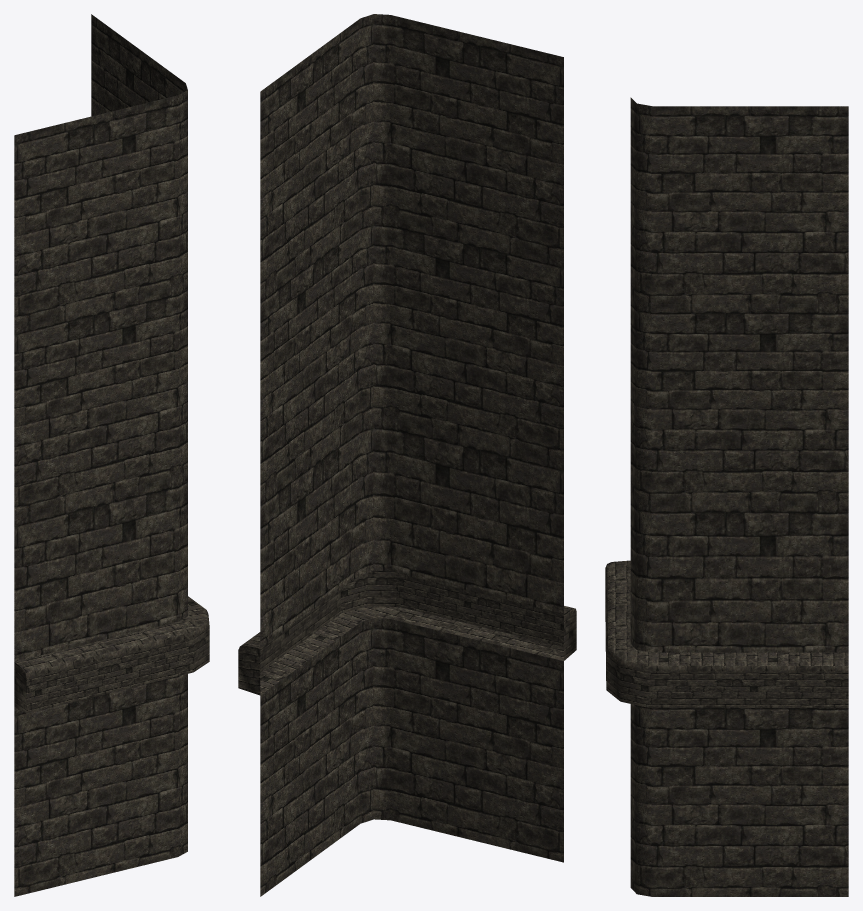
File: wallBlockOCS.fbx
3 renders of one model, left to right at view 1: azimuth 30°, elevation 25°; view 2: azimuth 150°, elevation 25°; view 3: azimuth 270°, elevation 25°, orthographic. The views are drawn at different scales.
Parts seen in each view (by area): view 1: polySurface72; view 2: polySurface72; view 3: polySurface72.
Part boxes in pixels (box(x1,y1,x2,y2)): polySurface72: box(14, 14, 209, 896); polySurface72: box(238, 14, 576, 896); polySurface72: box(605, 97, 848, 896).
Bounding box in the file's own units: 2.23 × 8 × 2.23.
1 material, 1 textured.
